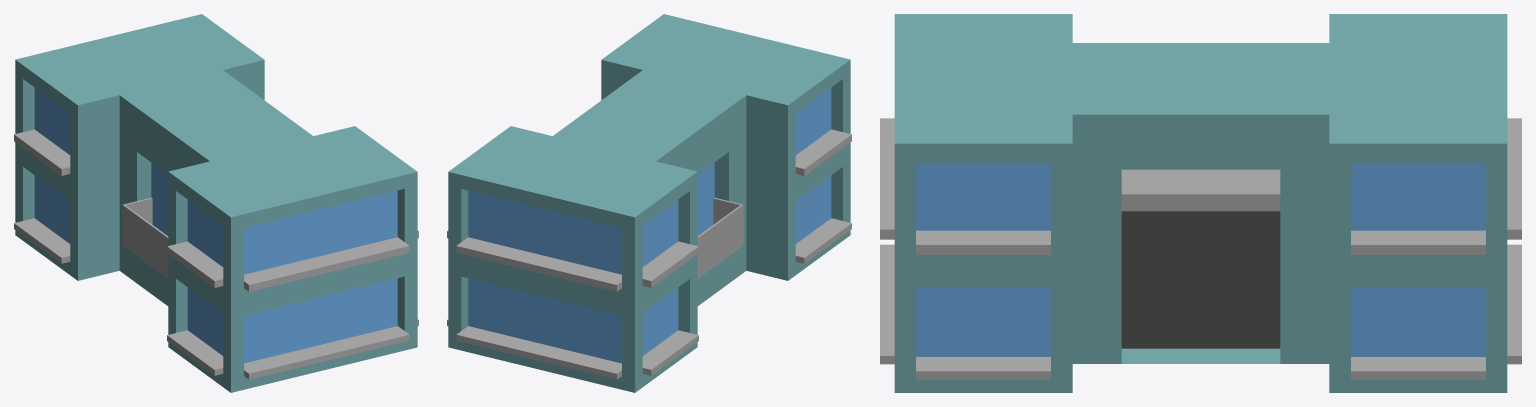
File: building_1x2_5_g.glb
3 renders of one model, left to right at view 1: azimuth 30°, elevation 25°; view 2: azimuth 150°, elevation 25°; view 3: azimuth 270°, elevation 25°, orthographic. The views are drawn at different scales.
Visible parts, largest first — view 1: Cube; view 2: Cube; view 3: Cube.
Part boxes in pixels (x1,y1,x2,y2): Cube: [14, 14, 418, 392]; Cube: [447, 14, 851, 392]; Cube: [880, 14, 1521, 392].
Bounding box in the file's own units: 1.95 × 1.6 × 3.73.
